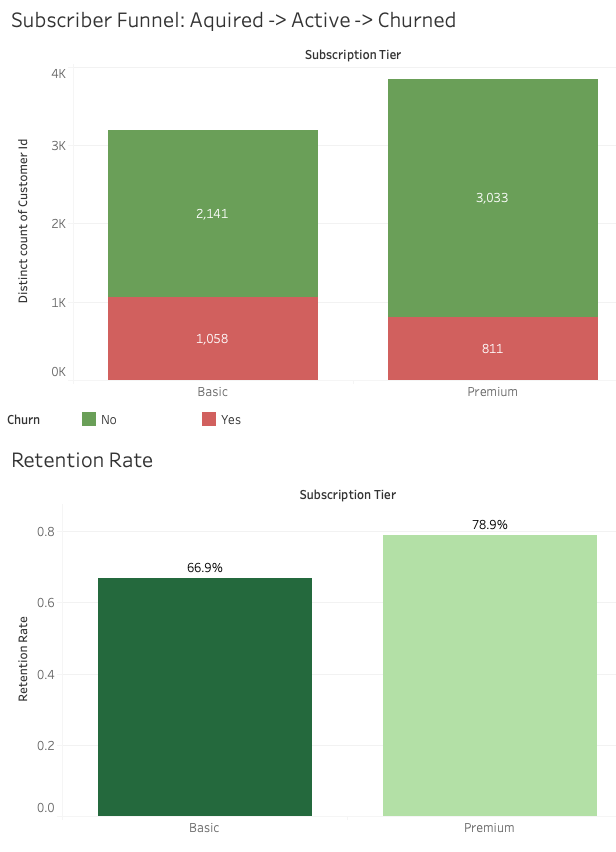

What the dashboard file says about the page in this screenshot:
{"tool":"tableau","page":{"name":"Subscriber Funnel & Retention","canvas":[650,860],"ordinal":4},"visuals":[{"type":"worksheet","title":"Subscriber Funnel","mark":"Bar","rows":["customer_id"],"cols":["subscription_tier"],"box":[8,8,634,408]},{"type":"legend","title":"Subscriber Funnel","param":"[federated.0gyywgw1lz12qx14jcgju14deura].[none:churn:nk]","box":[8,416,634,32]},{"type":"worksheet","title":"Retention Rate","mark":"Bar","rows":["Calculation_2320148025835527"],"cols":["subscription_tier"],"box":[8,448,634,404]}]}

Visuals, with their boxes on the page's 650x860 design canvas (x1, y1, x2, y2). These are canvas units, not pixel positions in the 616x852 screenshot, which may show the page scaled, cropped or inside an application window:
"Subscriber Funnel" worksheet (Bar marks): select_region(8, 8, 642, 416)
"Subscriber Funnel" legend: select_region(8, 416, 642, 448)
"Retention Rate" worksheet (Bar marks): select_region(8, 448, 642, 852)
